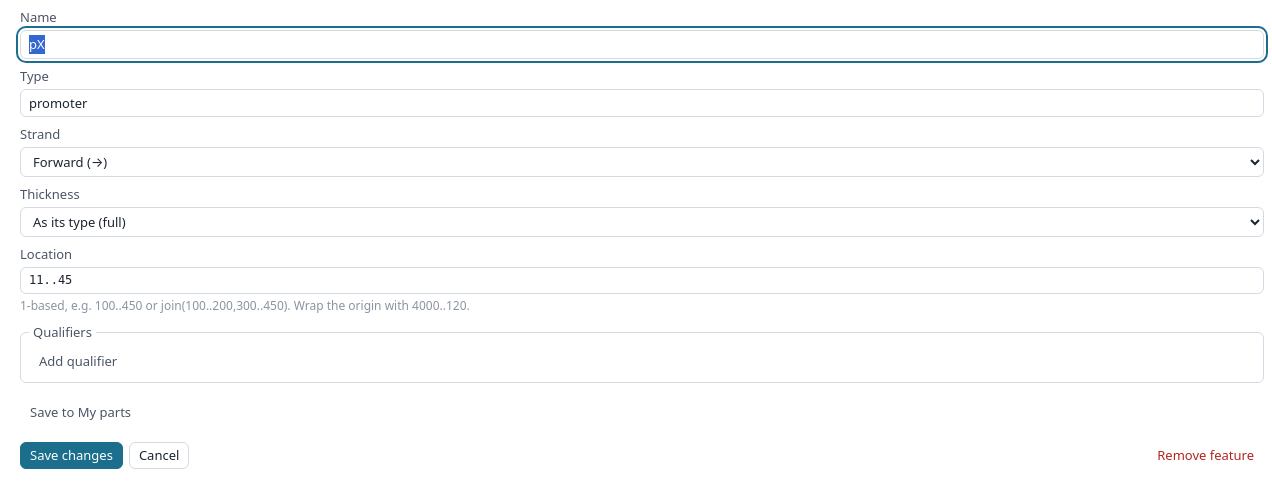
Test: Save to My parts › keeps a feature of the document as a part
Click the button "Save to My parts" at (81,413), box [20,399,141,426]
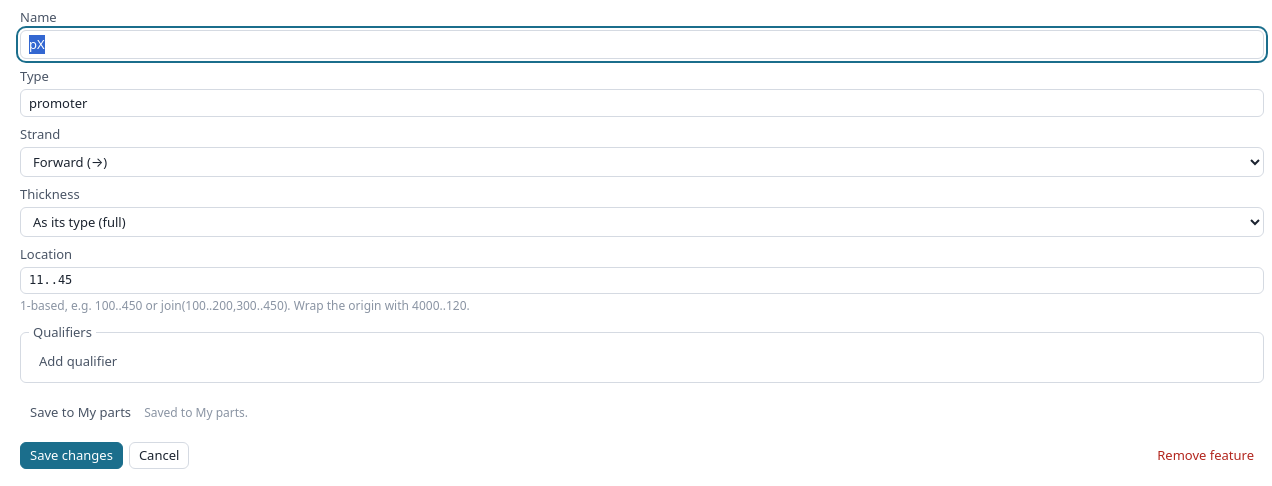
Now the text "Saved to My parts." is shown, box [144,404,248,421]
Click the button "Save to My parts" at (81,413), box [20,399,141,426]
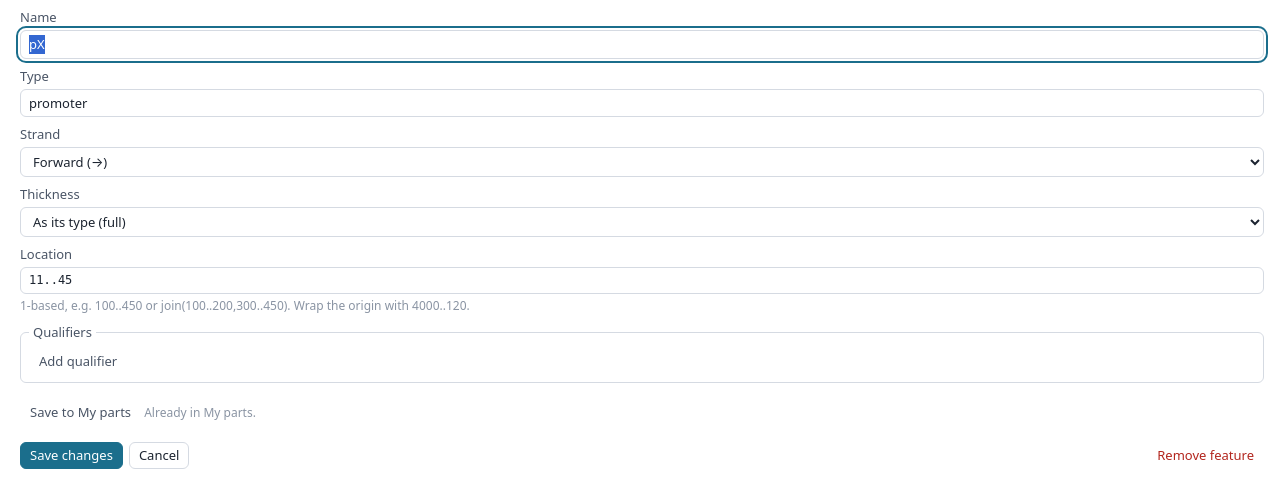
Now the text "Already in My parts." is shown, box [144,404,256,421]
